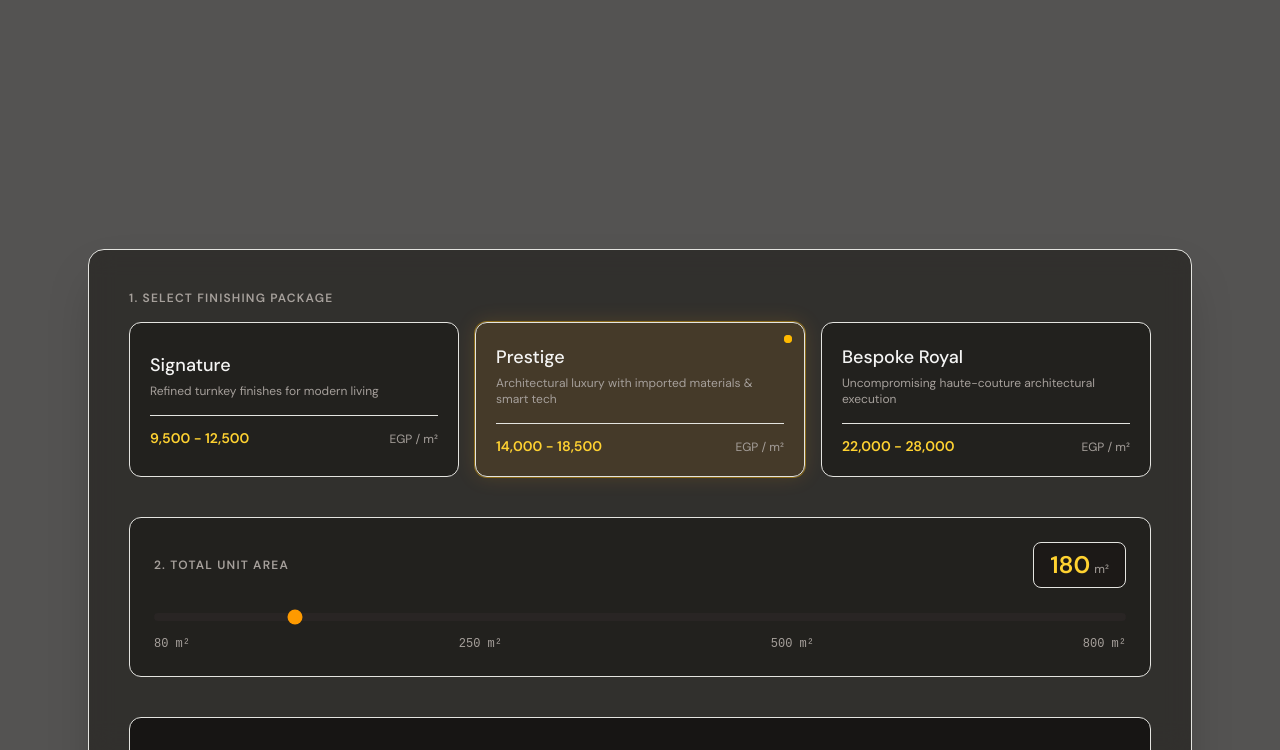
Test case: CostEstimator Component › updates calculations dynamically when area slider changes
Set the slider to "300": point(454, 617) left=154, top=613, right=1126, bottom=621
(page scrolled)
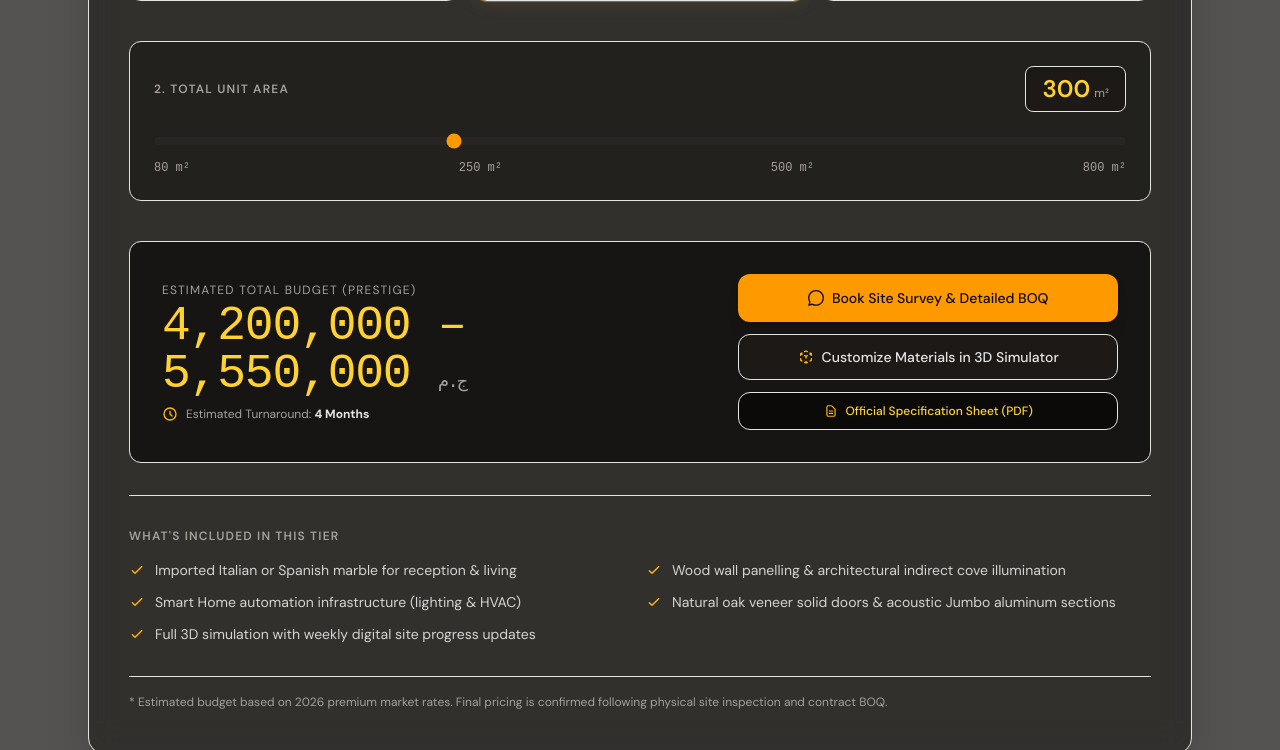
Expected: the text "4,200,000 – 5,550,000 ج.م" is shown, left=162, top=299, right=467, bottom=401
